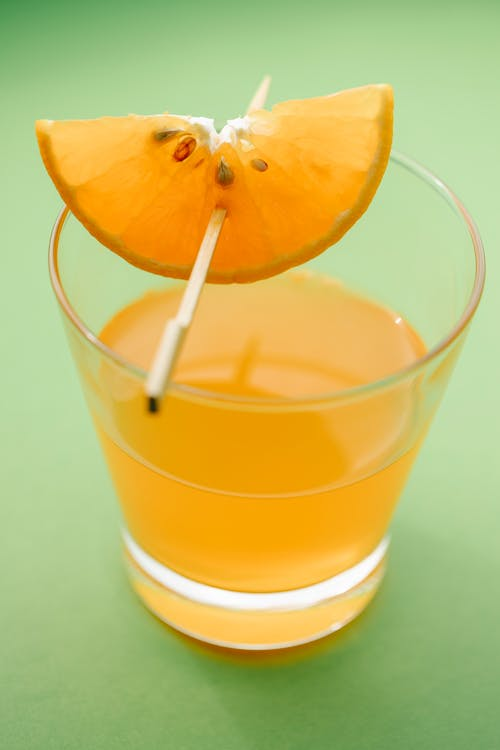alcohol: (46, 143, 488, 652)
